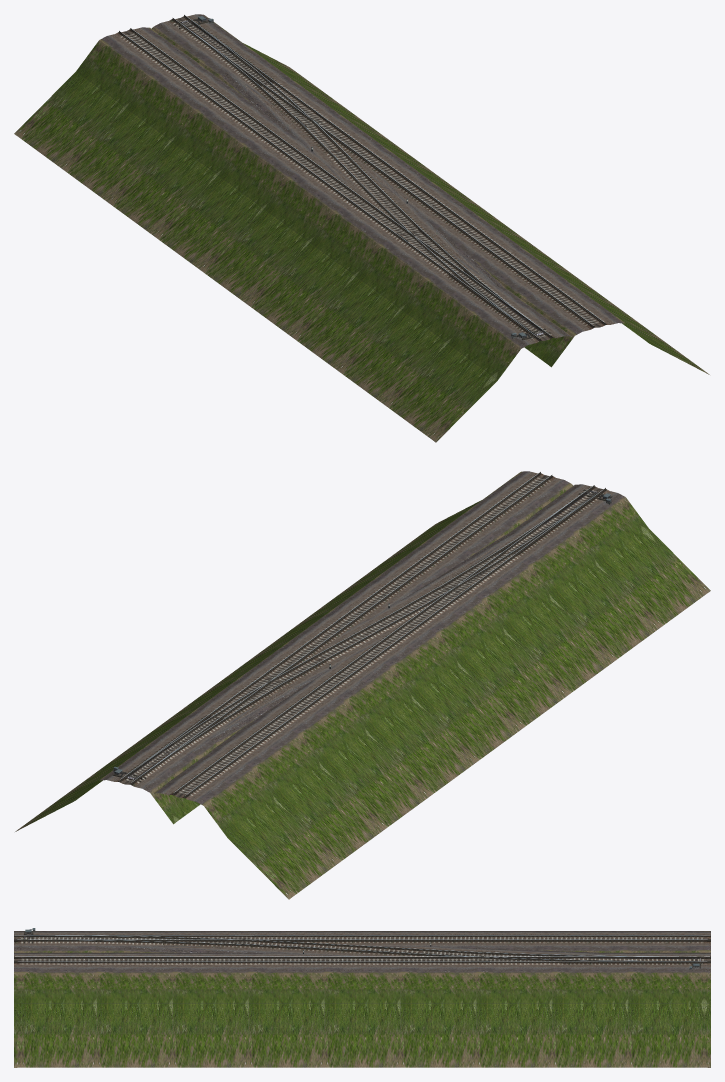
The model's file is tracks_2track2+2.gltf.
The picture shows the model from 3 angles, top to bottom: view 1: azimuth 30°, elevation 25°; view 2: azimuth 150°, elevation 25°; view 3: azimuth 270°, elevation 25°; orthographic projection. The views are drawn at different scales.
Visible parts, largest first — view 1: tracks_2track2+2; view 2: tracks_2track2+2; view 3: tracks_2track2+2.
Part boxes in pixels (box(x1,y1,x2,y2)): tracks_2track2+2: box(14, 14, 709, 442); tracks_2track2+2: box(15, 471, 710, 899); tracks_2track2+2: box(14, 928, 710, 1067).
Bounding box in the file's own units: 38.38 × 10.63 × 102.
Materials: 1 (1 with a texture image).
